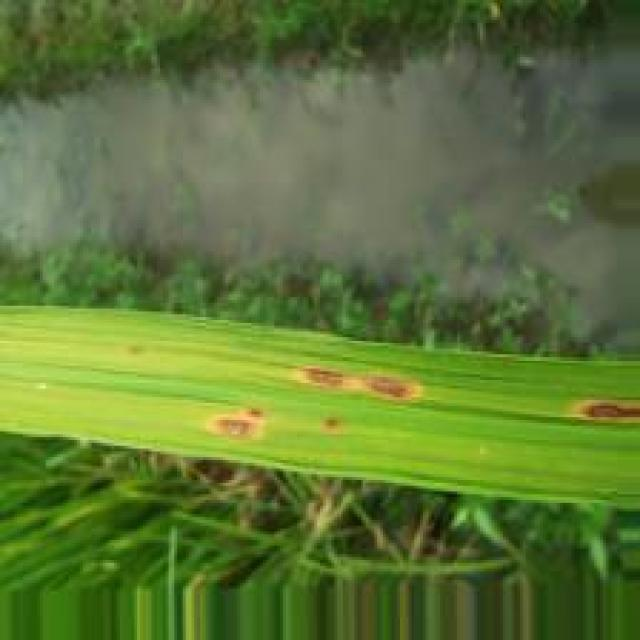Brown_Spot: (283, 363, 435, 403), (205, 405, 270, 443), (574, 396, 640, 420), (317, 414, 350, 432)
